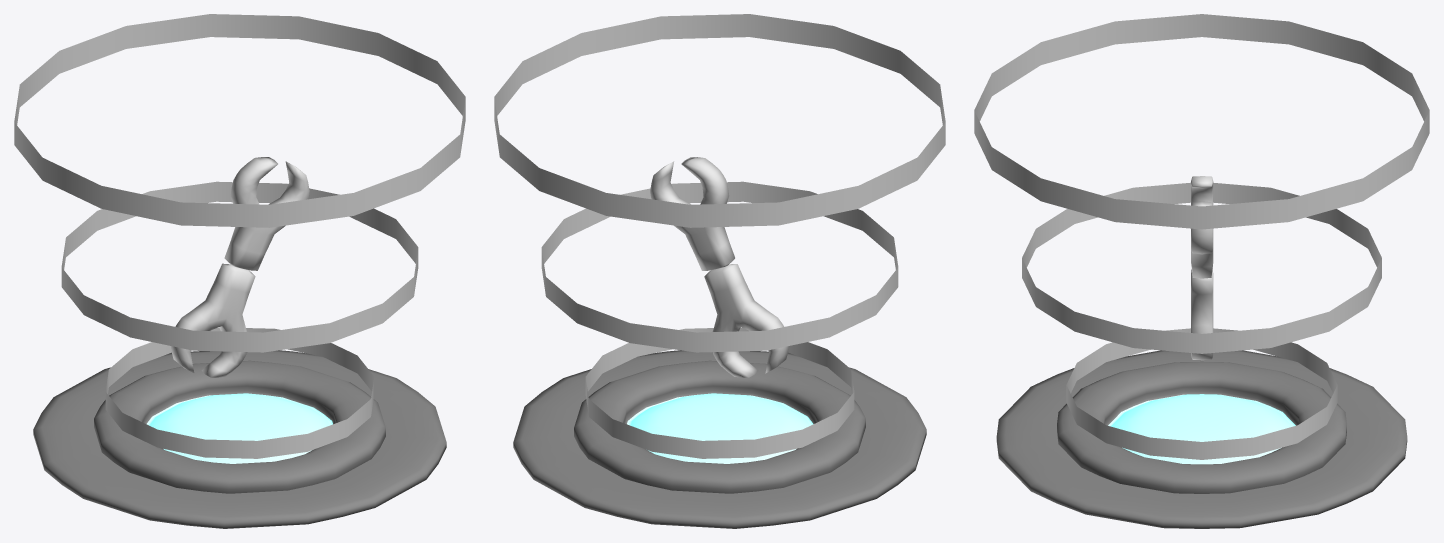
File: Repair.fbx
3 renders of one model, left to right at view 1: azimuth 30°, elevation 25°; view 2: azimuth 150°, elevation 25°; view 3: azimuth 270°, elevation 25°, orthographic.
Visible parts, largest first — view 1: Cylinder.012, Cylinder.013, Cylinder.015, Plane.005, Cylinder.014; view 2: Cylinder.012, Cylinder.013, Cylinder.015, Plane.005, Cylinder.014; view 3: Cylinder.012, Cylinder.013, Cylinder.015, Cylinder.014, Plane.005.
Part boxes in pixels (box(x1,y1,x2,y2)): Cylinder.012: box(33, 350, 446, 528); Cylinder.013: box(14, 14, 465, 227); Cylinder.015: box(61, 181, 418, 352); Plane.005: box(170, 157, 309, 377); Cylinder.014: box(105, 328, 374, 458); Cylinder.012: box(513, 350, 926, 528); Cylinder.013: box(494, 14, 945, 227); Cylinder.015: box(541, 181, 898, 352); Plane.005: box(650, 157, 788, 377); Cylinder.014: box(585, 328, 854, 458); Cylinder.012: box(996, 350, 1407, 528); Cylinder.013: box(974, 14, 1429, 229); Cylinder.015: box(1022, 182, 1381, 353); Cylinder.014: box(1066, 328, 1337, 459); Plane.005: box(1191, 176, 1213, 360).
Size of the model in its own units: 588 by 478 by 588.
